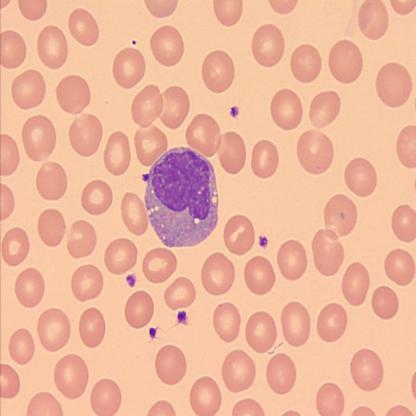Monocyte: (140, 143, 223, 249)
